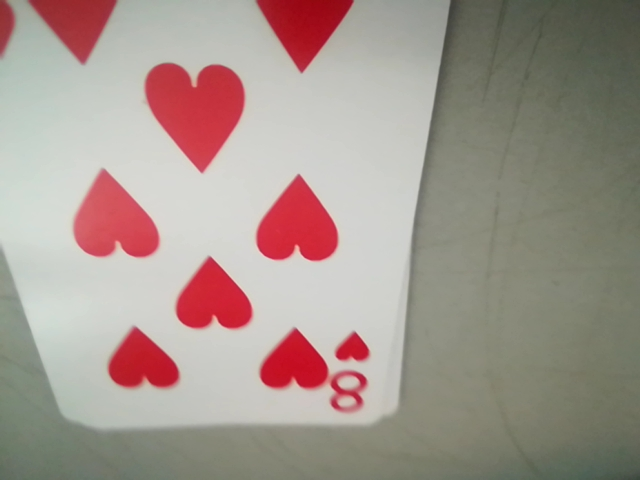hx 8: (327, 326, 375, 414)
